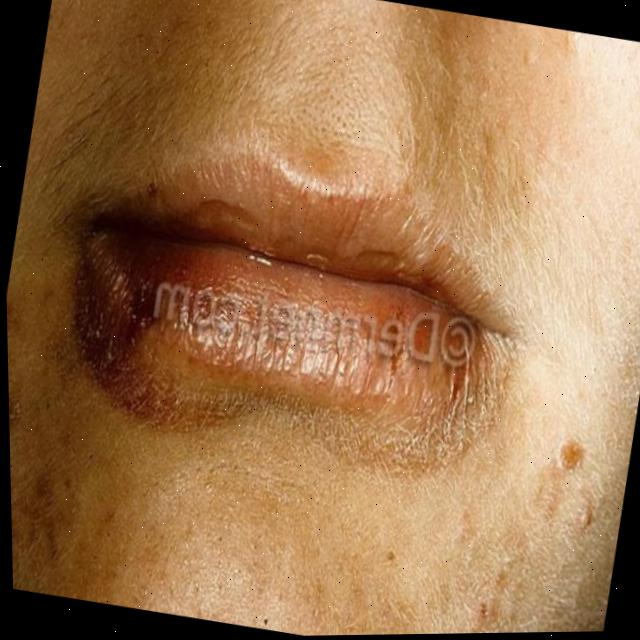Eczema: (14, 278, 491, 513)
